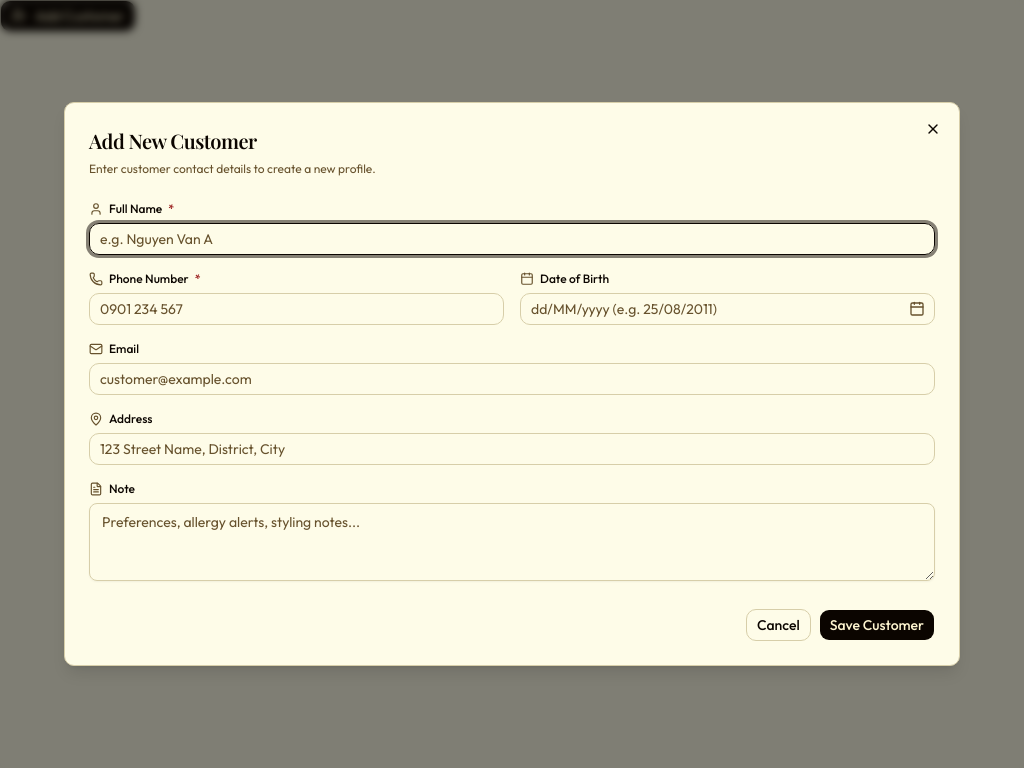
CustomerFormDialog - Create Mode › displays validation errors on empty required fields
The image size is (1024, 768).
Click the button "Save Customer" at (877,625), box [819, 609, 935, 641]
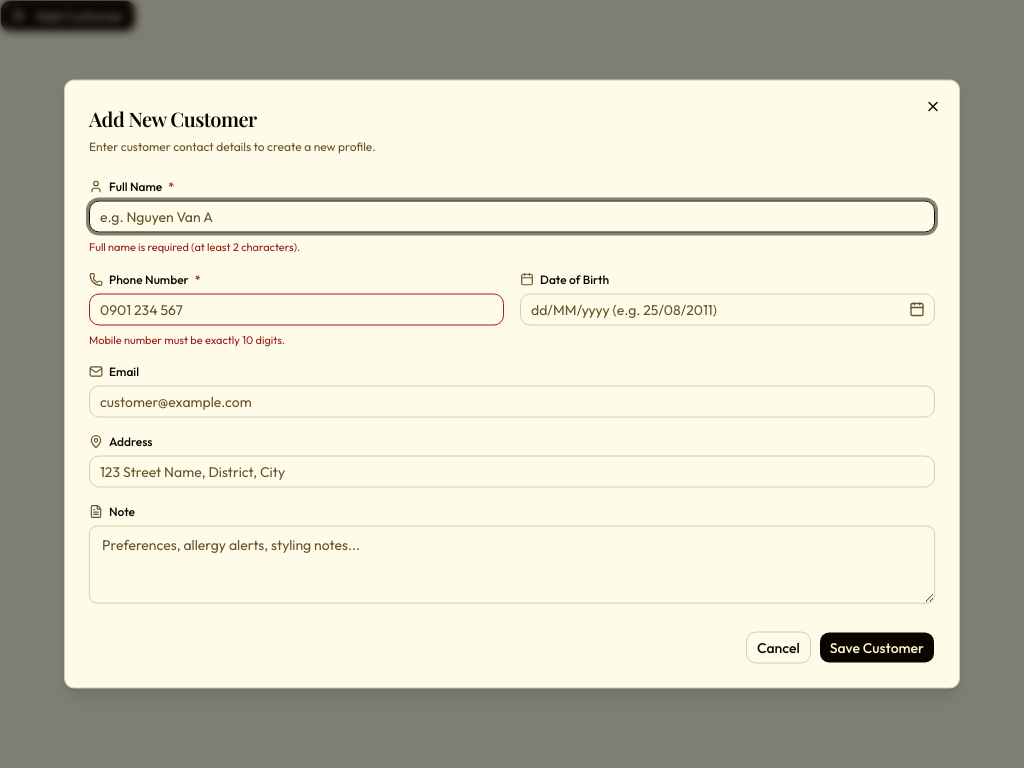
expect the text "Full name is required (at least 2 characters)." is shown: met, box [89, 240, 300, 254]
expect the text "Mobile number must be exactly 10 digits." is shown: met, box [89, 332, 285, 346]
